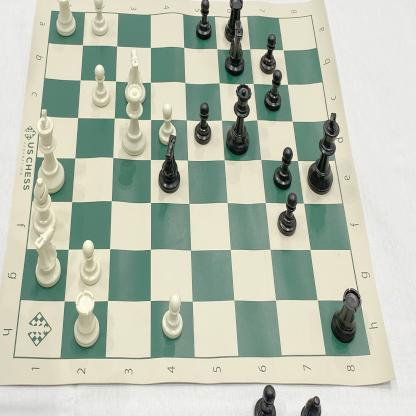bishop: (72, 289, 102, 351), (29, 176, 58, 237)
king: (301, 108, 342, 196), (33, 106, 67, 196)
knight: (31, 224, 63, 288), (156, 134, 184, 196), (123, 45, 147, 105), (225, 18, 246, 76)
pawn: (75, 237, 104, 288), (158, 289, 186, 341), (90, 61, 112, 109), (276, 191, 298, 238), (272, 146, 294, 192), (190, 100, 212, 146), (264, 68, 284, 115), (258, 30, 278, 76), (157, 102, 177, 148), (194, 0, 215, 43), (88, 0, 111, 39)
queen: (116, 84, 150, 158), (223, 82, 253, 158)
rook: (330, 282, 362, 344), (223, 0, 247, 43), (51, 1, 78, 38)
